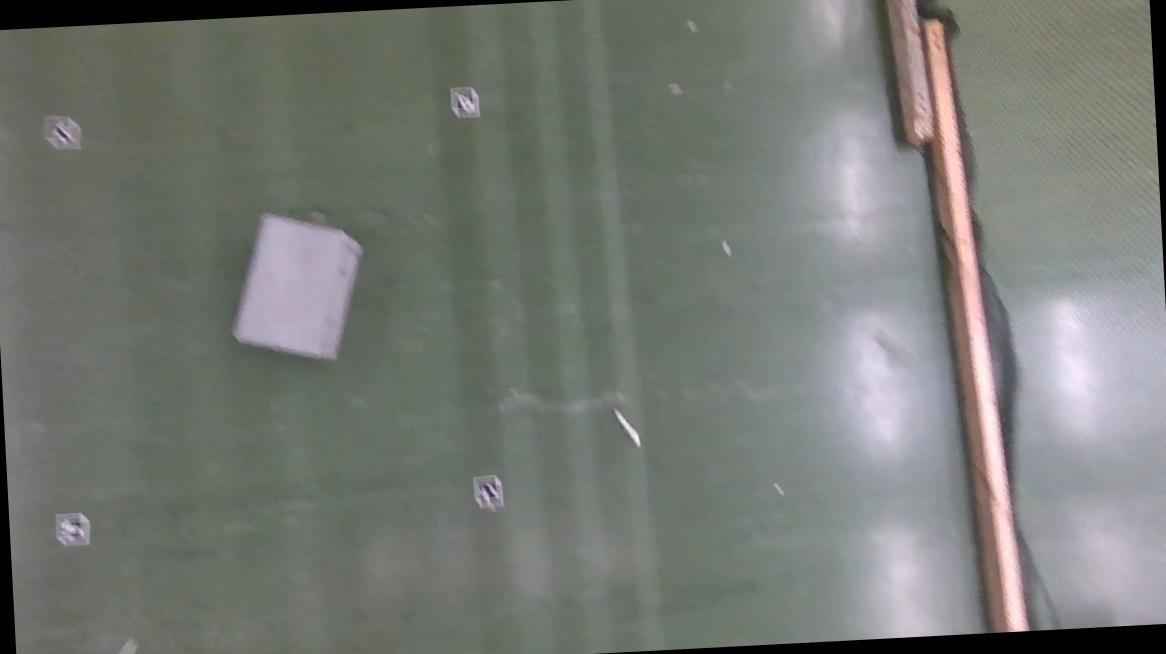probes: (616, 409, 640, 448), (104, 637, 137, 654)
rako: (228, 210, 367, 368)
